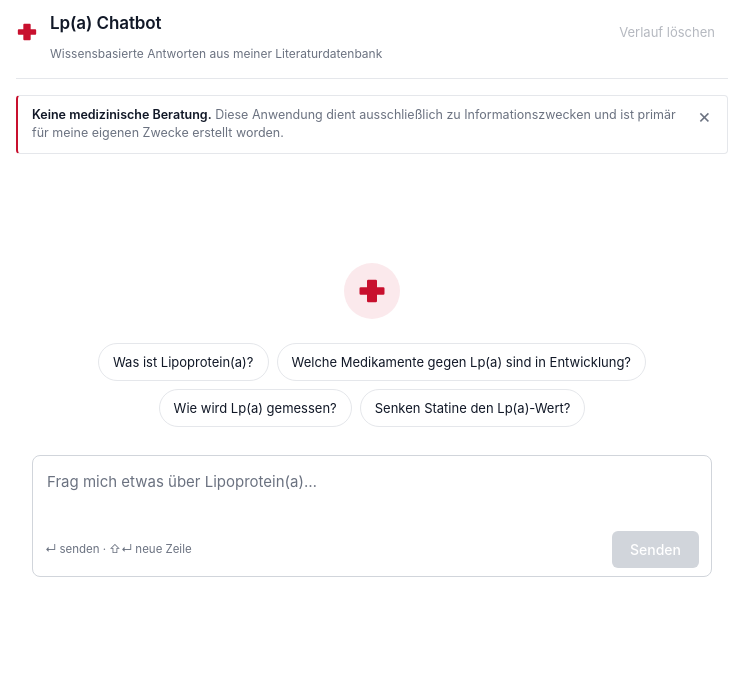
App › surfaces stream errors in a dedicated error card
This screenshot has width=745, height=699.
In the text box with placeholder "Frag mich etwas über Lipoprotein(a)…": (372, 493) [45,466,699,520], type "hi"
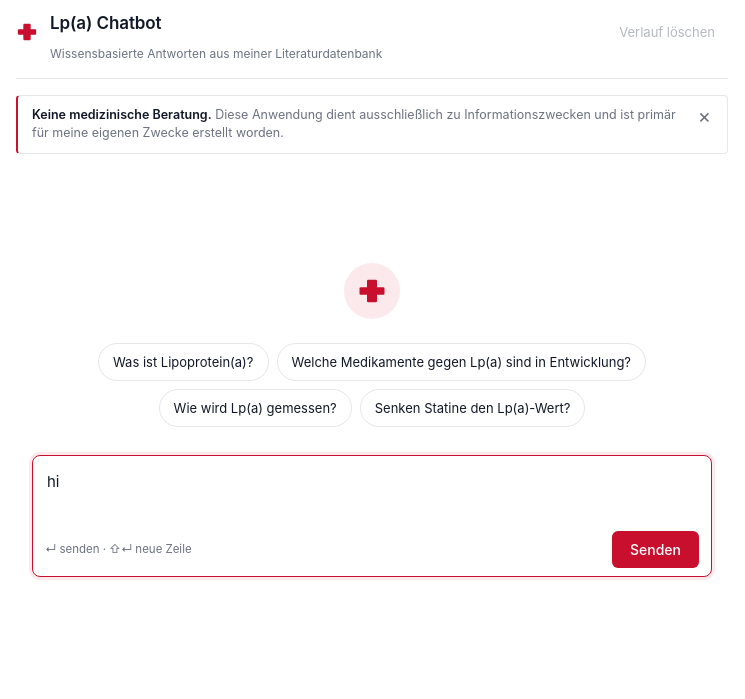
Click the button "Senden": (656, 550) [612,531,699,568]
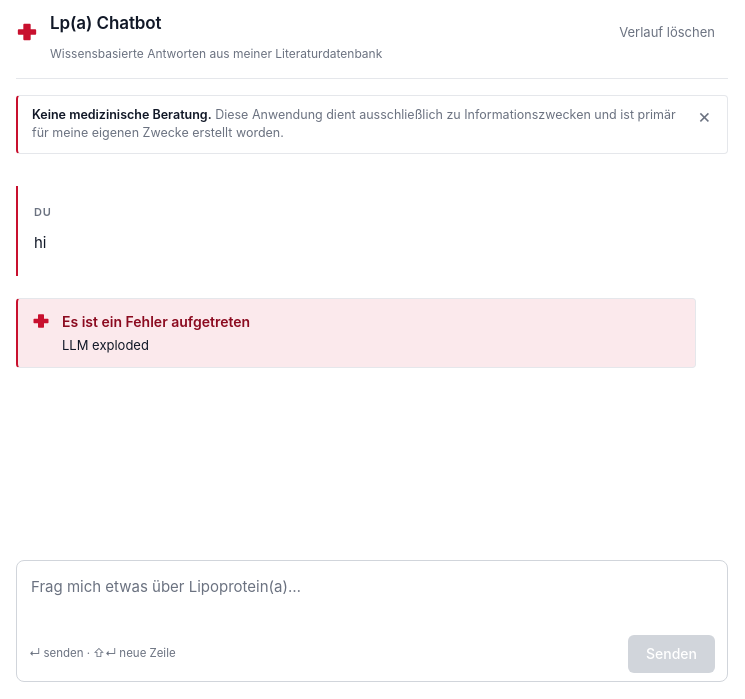
Result: the message "Es ist ein Fehler aufgetreten LLM exploded" is shown at [16,298,696,368]
Result: the text "LLM exploded" is shown at [62,337,149,353]
Result: the text "Es ist ein Fehler aufgetreten" is shown at [62,311,250,333]
